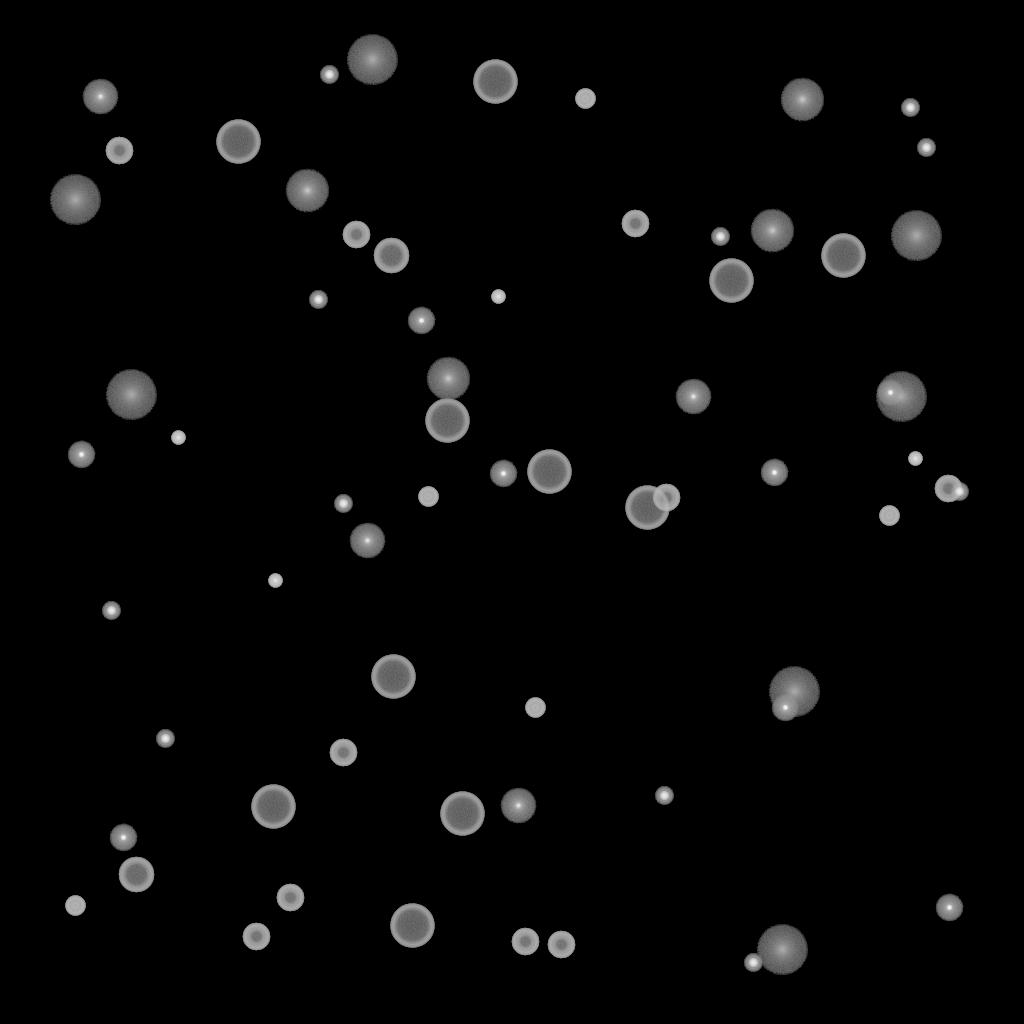depth:-10: (760, 459, 788, 487), (489, 460, 517, 488), (771, 694, 799, 722), (109, 824, 137, 852), (876, 379, 904, 407), (67, 441, 95, 469), (935, 894, 963, 922), (407, 307, 435, 335)
depth:-20: (917, 139, 935, 157), (655, 787, 673, 805), (156, 730, 174, 748), (320, 66, 338, 84), (901, 99, 919, 117), (334, 495, 352, 513), (950, 483, 968, 501), (744, 954, 762, 972), (711, 228, 729, 246), (309, 291, 327, 309), (102, 602, 120, 620)
depth:-30: (268, 574, 282, 588), (908, 452, 922, 466), (491, 290, 505, 304), (171, 431, 185, 445)
depth:-40: (418, 487, 438, 507), (575, 89, 595, 109), (525, 698, 545, 718), (65, 896, 85, 916), (879, 506, 899, 526)
depth:-50: (652, 484, 680, 512), (105, 137, 133, 165), (621, 210, 649, 238), (276, 884, 304, 912), (511, 928, 539, 956), (547, 931, 575, 959), (242, 923, 270, 951), (329, 739, 357, 767), (342, 221, 370, 249), (934, 475, 962, 503)
depth:-60: (373, 238, 409, 274), (118, 857, 154, 893)
depth:-70: (527, 450, 571, 494), (821, 234, 865, 278), (625, 486, 669, 530), (251, 785, 295, 829), (709, 259, 753, 303), (390, 904, 434, 948), (216, 120, 260, 164), (440, 792, 484, 836), (371, 655, 415, 699), (473, 60, 517, 104), (425, 399, 469, 443)
depth:0: (349, 523, 385, 559), (82, 79, 118, 115), (675, 379, 711, 415), (500, 788, 536, 824)
depth:10: (285, 169, 329, 213), (780, 78, 824, 122), (750, 209, 794, 253), (426, 357, 470, 401)
depth:20: (756, 925, 808, 975), (346, 35, 398, 85), (49, 175, 101, 225), (768, 667, 820, 717), (890, 211, 942, 261), (875, 372, 927, 422), (105, 370, 157, 420)
